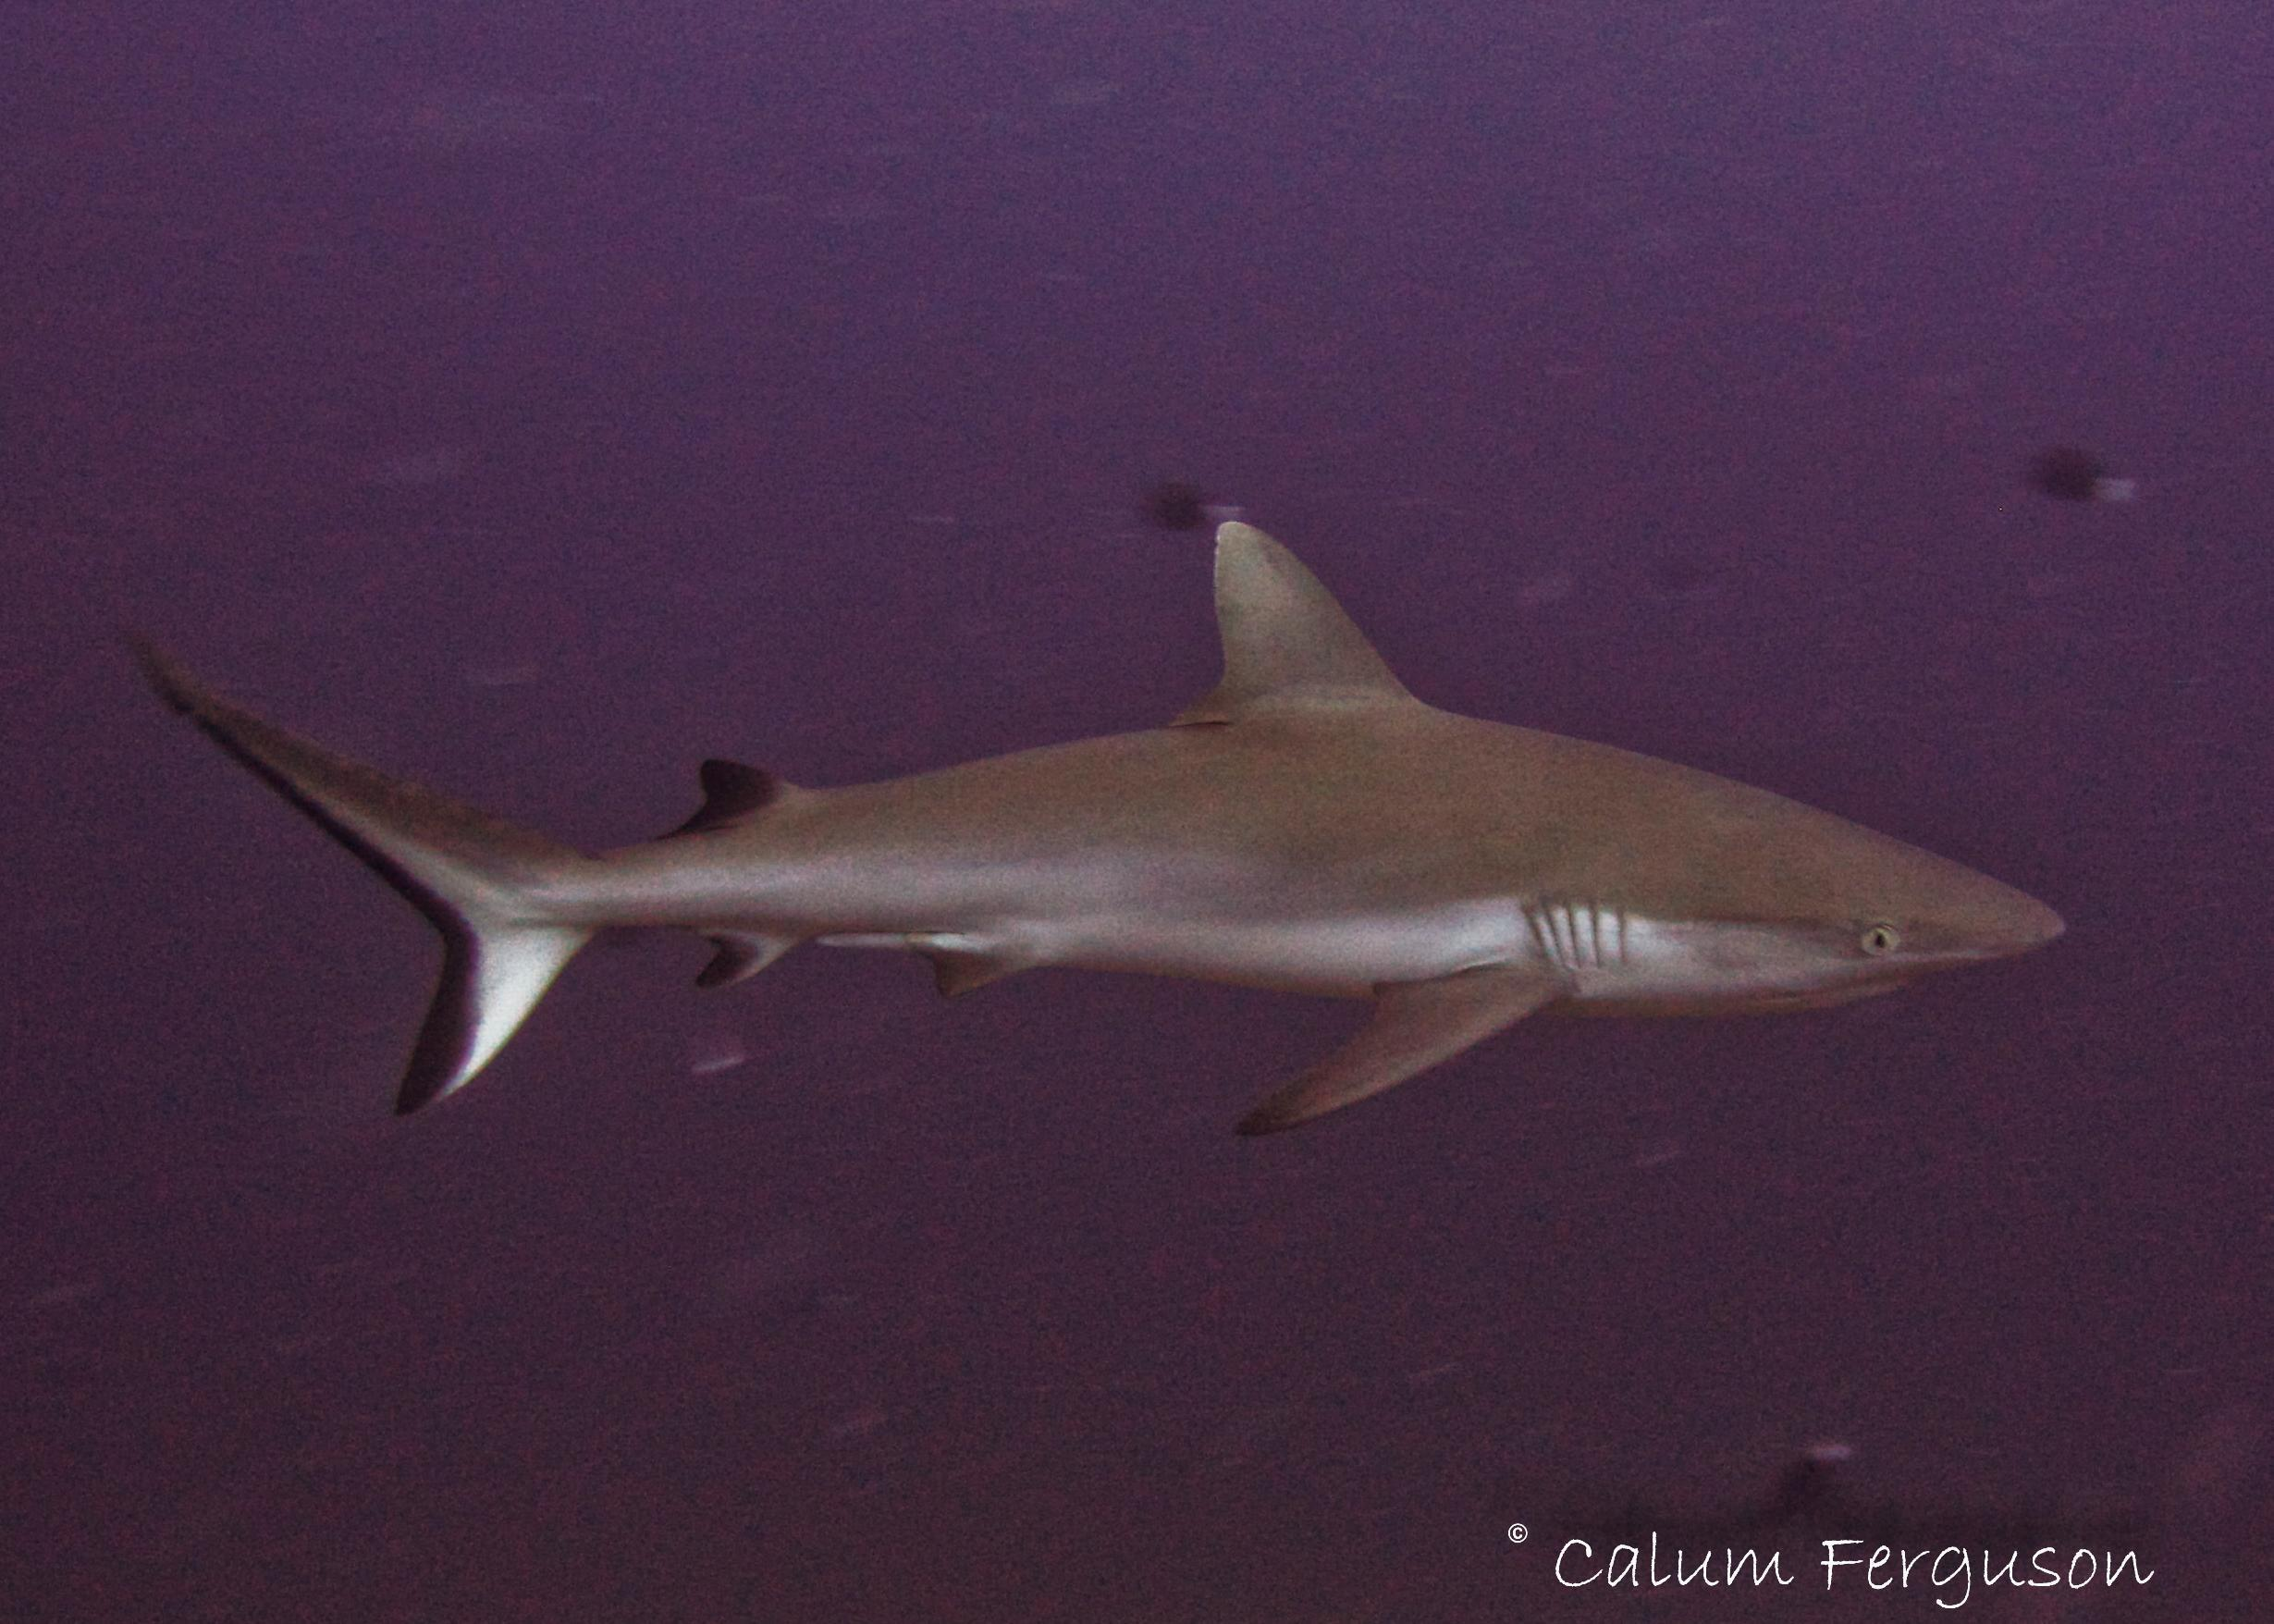Fish: (81, 506, 2102, 1206)
